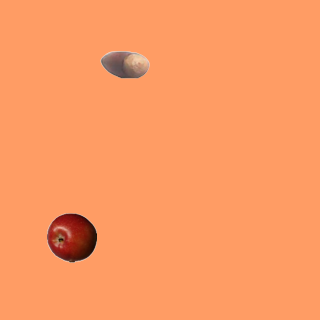Apple Braeburn: (46, 212, 96, 262)
Hazelnut: (99, 39, 149, 89)
